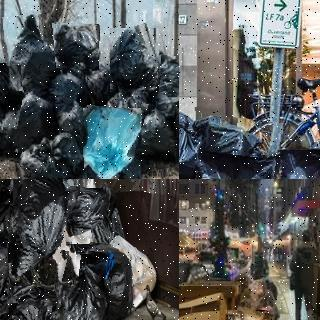Garbage: (2, 179, 83, 289), (194, 115, 281, 179), (42, 252, 113, 320), (81, 106, 142, 179), (4, 13, 60, 90), (82, 243, 135, 320), (106, 25, 163, 95), (2, 87, 58, 156), (17, 131, 83, 179), (130, 104, 179, 167), (65, 187, 110, 245), (53, 23, 100, 71), (196, 153, 274, 179), (179, 108, 207, 179), (156, 55, 179, 131), (271, 146, 320, 179), (0, 61, 20, 132), (1, 297, 51, 320), (0, 237, 9, 313)
